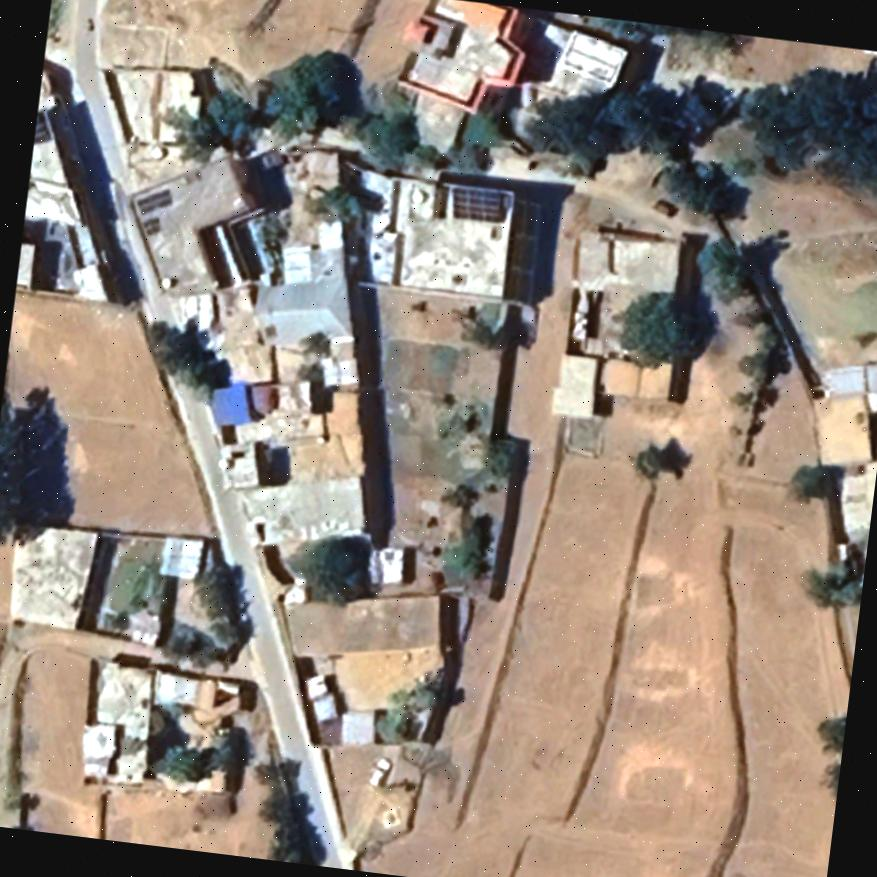Solarpanel: (444, 179, 512, 227), (129, 180, 177, 218)
